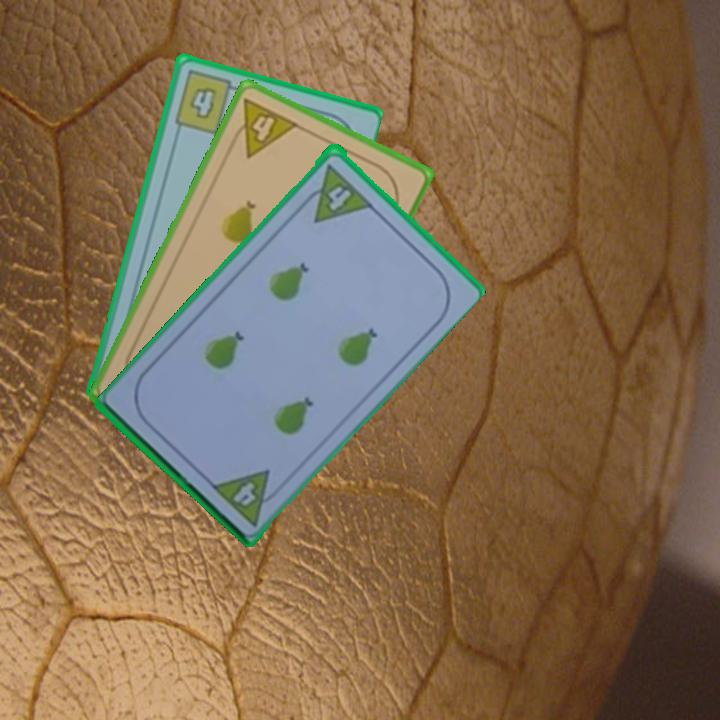4b: (170, 66, 244, 137)
4p: (224, 94, 301, 161), (296, 160, 375, 225), (208, 465, 288, 529)
